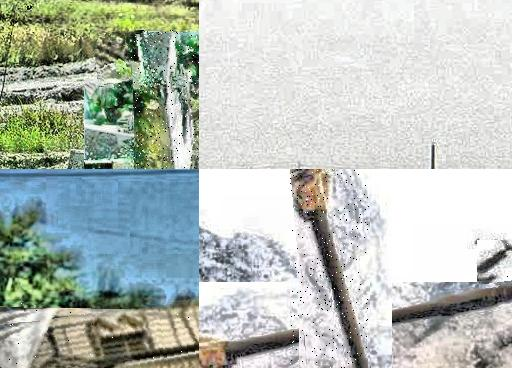tanks: (293, 170, 370, 368), (1, 307, 200, 368), (135, 33, 200, 170), (106, 46, 200, 108), (481, 244, 512, 289)
